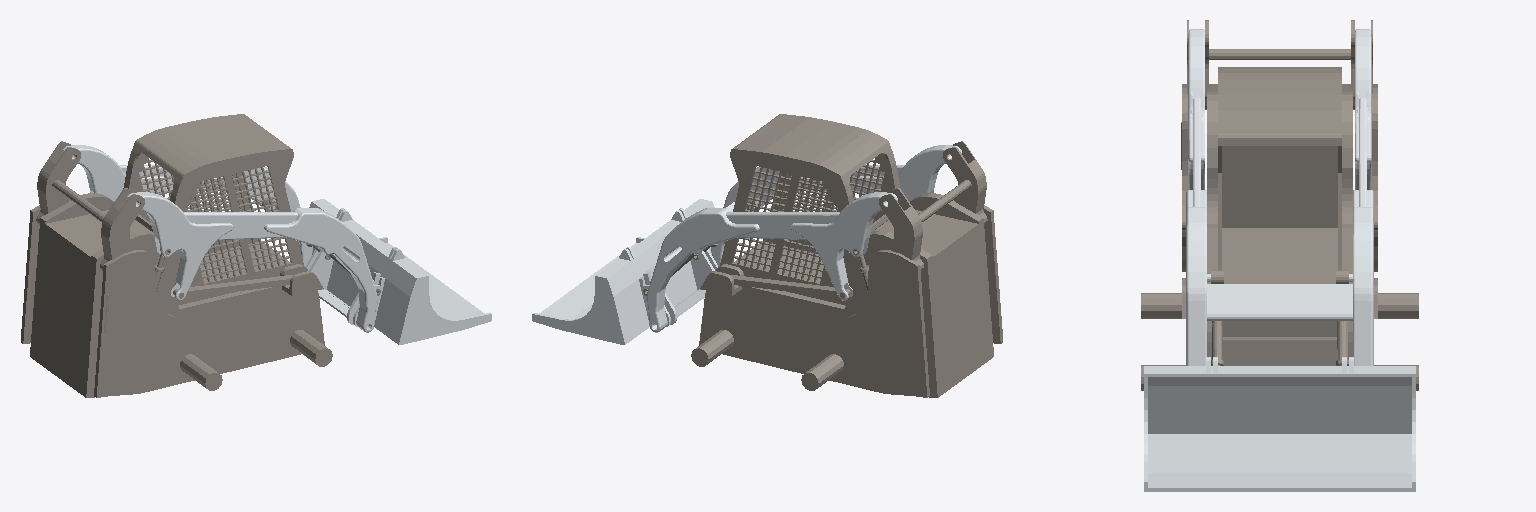
The robot description file, URDF, robot "bobcat":
<?xml version="1.0"?>
<robot
  name="bobcat">
  <link
    name="body">
    <inertial>
      <origin
        xyz="-0.890714078986241 0.000176354230843794 0.525609535873677"
        rpy="0 0 0" />
      <mass
        value="5018.57981030941" />
      <inertia
        ixx="1272.55944993386"
        ixy="0.30897993676798"
        ixz="-158.353301657466"
        iyy="2264.90693597666"
        iyz="-0.107097171125939"
        izz="2025.98192908188" />
    </inertial>
    <visual>
      <origin
        xyz="0 0 0"
        rpy="0 0 0" />
      <geometry>
        <mesh
          filename="package://bobcat/meshes/body_lite.STL" />
      </geometry>
      <material
        name="">
        <color
          rgba="0.647058823529412 0.619607843137255 0.588235294117647 0.5" />
      </material>
    </visual>
    <collision>
      <origin
        xyz="0 0 0"
        rpy="0 0 0" />
      <geometry>
        <mesh
          filename="package://bobcat/meshes/body_lite.STL" />
      </geometry>
    </collision>
  </link>
  <link
    name="front_left_wheel">
    <inertial>
      <origin
        xyz="2.0502E-07 0.19645 -3.6566E-09"
        rpy="0 0 0" />
      <mass
        value="1113.6" />
      <inertia
        ixx="57.645"
        ixy="-0.0001268"
        ixz="0.00024451"
        iyy="96.158"
        iyz="-4.2461E-05"
        izz="57.645" />
    </inertial>
    <visual>
      <origin
        xyz="0 0 0"
        rpy="0 0 0" />
      <geometry>
        <mesh
          filename="package://bobcat/meshes/front_left_wheel.STL" />
      </geometry>
      <material
        name="">
        <color
          rgba="0.64706 0.61961 0.58824 1" />
      </material>
    </visual>
    <collision>
      <origin
        xyz="0 0 0"
        rpy="0 0 0" />
      <geometry>
        <mesh
          filename="package://bobcat/meshes/front_left_wheel_lite.STL" />
      </geometry>
    </collision>
  </link>
  <joint
    name="front_left_wheel_joint"
    type="continuous">
    <origin
      xyz="-0.22722 0.47558 0.125"
      rpy="0 2.1164E-16 0" />
    <parent
      link="body" />
    <child
      link="front_left_wheel" />
    <axis
      xyz="0 1 0" />
  </joint>
  <link
    name="front_right_wheel">
    <inertial>
      <origin
        xyz="-2.0519E-07 -0.19645 -4.3198E-09"
        rpy="0 0 0" />
      <mass
        value="1113.6" />
      <inertia
        ixx="57.645"
        ixy="-0.00012695"
        ixz="-0.00024494"
        iyy="96.158"
        iyz="4.2098E-05"
        izz="57.645" />
    </inertial>
    <visual>
      <origin
        xyz="0 0 0"
        rpy="0 0 0" />
      <geometry>
        <mesh
          filename="package://bobcat/meshes/front_right_wheel.STL" />
      </geometry>
      <material
        name="">
        <color
          rgba="0.64706 0.61961 0.58824 1" />
      </material>
    </visual>
    <collision>
      <origin
        xyz="0 0 0"
        rpy="0 0 0" />
      <geometry>
        <mesh
          filename="package://bobcat/meshes/front_right_wheel_lite.STL" />
      </geometry>
    </collision>
  </link>
  <joint
    name="front_right_wheel_joint"
    type="continuous">
    <origin
      xyz="-0.22722 -0.47558 0.125"
      rpy="0 2.1164E-16 0" />
    <parent
      link="body" />
    <child
      link="front_right_wheel" />
    <axis
      xyz="0 1 0" />
  </joint>
  <link
    name="back_left_wheel">
    <inertial>
      <origin
        xyz="7.7344E-08 0.19645 1.8868E-07"
        rpy="0 0 0" />
      <mass
        value="1113.6" />
      <inertia
        ixx="57.645"
        ixy="-9.3672E-06"
        ixz="-0.00022863"
        iyy="96.158"
        iyz="-0.00013365"
        izz="57.645" />
    </inertial>
    <visual>
      <origin
        xyz="0 0 0"
        rpy="0 0 0" />
      <geometry>
        <mesh
          filename="package://bobcat/meshes/back_left_wheel.STL" />
      </geometry>
      <material
        name="">
        <color
          rgba="0.64706 0.61961 0.58824 1" />
      </material>
    </visual>
    <collision>
      <origin
        xyz="0 0 0"
        rpy="0 0 0" />
      <geometry>
        <mesh
          filename="package://bobcat/meshes/back_left_wheel_lite.STL" />
      </geometry>
    </collision>
  </link>
  <joint
    name="back_left_wheel_joint"
    type="continuous">
    <origin
      xyz="-1.227 0.47558 0.14772"
      rpy="0 2.1164E-16 0" />
    <parent
      link="body" />
    <child
      link="back_left_wheel" />
    <axis
      xyz="0 1 0" />
  </joint>
  <link
    name="back_right_wheel">
    <inertial>
      <origin
        xyz="-1.4894E-07 -0.19645 1.3751E-07"
        rpy="0 0 0" />
      <mass
        value="1113.6" />
      <inertia
        ixx="57.645"
        ixy="-6.7699E-05"
        ixz="4.3277E-05"
        iyy="96.158"
        iyz="0.00011578"
        izz="57.645" />
    </inertial>
    <visual>
      <origin
        xyz="0 0 0"
        rpy="0 0 0" />
      <geometry>
        <mesh
          filename="package://bobcat/meshes/back_right_wheel.STL" />
      </geometry>
      <material
        name="">
        <color
          rgba="0.64706 0.61961 0.58824 1" />
      </material>
    </visual>
    <collision>
      <origin
        xyz="0 0 0"
        rpy="0 0 0" />
      <geometry>
        <mesh
          filename="package://bobcat/meshes/back_right_wheel_lite.STL" />
      </geometry>
    </collision>
  </link>
  <joint
    name="back_right_wheel_joint"
    type="continuous">
    <origin
      xyz="-1.227 -0.47558 0.14772"
      rpy="0 2.1164E-16 0" />
    <parent
      link="body" />
    <child
      link="back_right_wheel" />
    <axis
      xyz="0 1 0" />
  </joint>
  <link
    name="base_arm">
    <inertial>
      <origin
        xyz="0.066509 1.9771E-12 0.25686"
        rpy="0 0 0" />
      <mass
        value="194.91" />
      <inertia
        ixx="50.76"
        ixy="-2.9264E-11"
        ixz="0.66798"
        iyy="4.8017"
        iyz="7.0403E-12"
        izz="47.388" />
    </inertial>
    <visual>
      <origin
        xyz="0 0 0"
        rpy="0 0 0" />
      <geometry>
        <mesh
          filename="package://bobcat/meshes/base_arm.STL" />
      </geometry>
      <material
        name="">
        <color
          rgba="0.64706 0.61961 0.58824 1" />
      </material>
    </visual>
    <collision>
      <origin
        xyz="0 0 0"
        rpy="0 0 0" />
      <geometry>
        <mesh
          filename="package://bobcat/meshes/base_arm.STL" />
      </geometry>
    </collision>
  </link>
  <joint
    name="base_arm_joint"
    type="fixed">
    <origin
      xyz="-1.9776 0 1.1773"
      rpy="0 2.1164E-16 0" />
    <parent
      link="body" />
    <child
      link="base_arm" />
  </joint>
  <link
    name="main_arm">
    <inertial>
      <origin
        xyz="1.1865 -4.0206E-07 -0.60466"
        rpy="0 0 0" />
      <mass
        value="369.05" />
      <inertia
        ixx="133.74"
        ixy="0.00012791"
        ixz="-68.753"
        iyy="216.24"
        iyz="-4.6593E-05"
        izz="268.55" />
    </inertial>
    <visual>
      <origin
        xyz="0 0 0"
        rpy="0 0 0" />
      <geometry>
        <mesh
          filename="package://bobcat/meshes/main_arm.STL" />
      </geometry>
      <material
        name="">
        <color
          rgba="0.89412 0.91373 0.92941 1" />
      </material>
    </visual>
    <collision>
      <origin
        xyz="0 0 0"
        rpy="0 0 0" />
      <geometry>
        <mesh
          filename="package://bobcat/meshes/main_arm.STL" />
      </geometry>
    </collision>
  </link>
  <joint
    name="main_arm_joint"
    type="fixed">
    <origin
      xyz="0.22304 0 0.5262"
      rpy="0 -2.1164E-16 0" />
    <parent
      link="base_arm" />
    <child
      link="main_arm" />
  </joint>
  <link
    name="supporter">
    <inertial>
      <origin
        xyz="0.51341 -4.9085E-16 -0.060486"
        rpy="0 0 0" />
      <mass
        value="65.29" />
      <inertia
        ixx="16.898"
        ixy="-2.3004E-13"
        ixz="-0.76501"
        iyy="6.6127"
        iyz="-2.4072E-13"
        izz="23.301" />
    </inertial>
    <visual>
      <origin
        xyz="0 0 0"
        rpy="0 0 0" />
      <geometry>
        <mesh
          filename="package://bobcat/meshes/supporter.STL" />
      </geometry>
      <material
        name="">
        <color
          rgba="0.64706 0.61961 0.58824 1" />
      </material>
    </visual>
    <collision>
      <origin
        xyz="0 0 0"
        rpy="0 0 0" />
      <geometry>
        <mesh
          filename="package://bobcat/meshes/supporter.STL" />
      </geometry>
    </collision>
  </link>
  <joint
    name="supporter_joint"
    type="fixed">
    <origin
      xyz="0.39771 0 -0.89486"
      rpy="0 8.0491E-16 0" />
    <parent
      link="main_arm" />
    <child
      link="supporter" />
  </joint>
  <link
    name="front_cylinder">
    <inertial>
      <origin
        xyz="0.16022 1.6587E-08 -0.17142"
        rpy="0 0 0" />
      <mass
        value="24.149" />
      <inertia
        ixx="4.0554"
        ixy="-4.9938E-08"
        ixz="-0.46391"
        iyy="0.95412"
        iyz="6.094E-08"
        izz="3.9926" />
    </inertial>
    <visual>
      <origin
        xyz="0 0 0"
        rpy="0 0 0" />
      <geometry>
        <mesh
          filename="package://bobcat/meshes/front_cylinder.STL" />
      </geometry>
      <material
        name="">
        <color
          rgba="0.64706 0.61961 0.58824 1" />
      </material>
    </visual>
    <collision>
      <origin
        xyz="0 0 0"
        rpy="0 0 0" />
      <geometry>
        <mesh
          filename="package://bobcat/meshes/front_cylinder.STL" />
      </geometry>
    </collision>
  </link>
  <joint
    name="front_cylinder_joint"
    type="fixed">
    <origin
      xyz="1.741 0 -0.80293"
      rpy="0 8.0491E-16 0" />
    <parent
      link="main_arm" />
    <child
      link="front_cylinder" />
  </joint>
  <link
    name="front_shaft">
    <inertial>
      <origin
        xyz="9.4954E-07 8.3283E-07 -0.19417"
        rpy="0 0 0" />
      <mass
        value="13.711" />
      <inertia
        ixx="2.4234"
        ixy="-2.5882E-07"
        ixz="1.3728E-06"
        iyy="0.41181"
        iyz="1.3005E-06"
        izz="2.0158" />
    </inertial>
    <visual>
      <origin
        xyz="0 0 0"
        rpy="0 0 0" />
      <geometry>
        <mesh
          filename="package://bobcat/meshes/front_shaft.STL" />
      </geometry>
      <material
        name="">
        <color
          rgba="0.64706 0.61961 0.58824 1" />
      </material>
    </visual>
    <collision>
      <origin
        xyz="0 0 0"
        rpy="0 0 0" />
      <geometry>
        <mesh
          filename="package://bobcat/meshes/front_shaft.STL" />
      </geometry>
    </collision>
  </link>
  <joint
    name="front_shaft_joint"
    type="fixed">
    <origin
      xyz="0.50479 0 -0.54009"
      rpy="-3.1416 0.75163 -3.1416" />
    <parent
      link="front_cylinder" />
    <child
      link="front_shaft" />
  </joint>
  <link
    name="loader">
    <inertial>
      <origin
        xyz="0.37894 2.192E-15 0.067409"
        rpy="0 0 0" />
      <mass
        value="196.06" />
      <inertia
        ixx="58.693"
        ixy="1.2282E-14"
        ixz="-3.1063"
        iyy="18.499"
        iyz="-4.2535E-15"
        izz="64.178" />
    </inertial>
    <visual>
      <origin
        xyz="0 0 0"
        rpy="0 0 0" />
      <geometry>
        <mesh
          filename="package://bobcat/meshes/loader.STL" />
      </geometry>
      <material
        name="">
        <color
          rgba="0.89412 0.91373 0.92941 1" />
      </material>
    </visual>
    <collision>
      <origin
        xyz="0 0 0"
        rpy="0 0 0" />
      <geometry>
        <mesh
          filename="package://bobcat/meshes/loader.STL" />
      </geometry>
    </collision>
  </link>
  <joint
    name="loader_joint"
    type="fixed">
    <origin
      xyz="2.0984 0 -1.557"
      rpy="0 2.5362E-15 0" />
    <parent
      link="main_arm" />
    <child
      link="loader" />
  </joint>
  <link
    name="back_cylinder">
    <inertial>
      <origin
        xyz="0.14567 5.3127E-08 0.43479"
        rpy="0 0 0" />
      <mass
        value="30.817" />
      <inertia
        ixx="10.053"
        ixy="-2.1135E-07"
        ixz="0.70965"
        iyy="2.3798"
        iyz="-5.4817E-07"
        izz="8.1729" />
    </inertial>
    <visual>
      <origin
        xyz="0 0 0"
        rpy="0 0 0" />
      <geometry>
        <mesh
          filename="package://bobcat/meshes/back_cylinder.STL" />
      </geometry>
      <material
        name="">
        <color
          rgba="0.64706 0.61961 0.58824 1" />
      </material>
    </visual>
    <collision>
      <origin
        xyz="0 0 0"
        rpy="0 0 0" />
      <geometry>
        <mesh
          filename="package://bobcat/meshes/back_cylinder.STL" />
      </geometry>
    </collision>
  </link>
  <joint
    name="back_cylinder_joint"
    type="fixed">
    <origin
      xyz="-1.8135 0 0.2184"
      rpy="0 8.0491E-16 0" />
    <parent
      link="body" />
    <child
      link="back_cylinder" />
  </joint>
  <link
    name="back_shaft">
    <inertial>
      <origin
        xyz="-1.2324E-08 -4.788E-09 -0.41004"
        rpy="0 0 0" />
      <mass
        value="20.367" />
      <inertia
        ixx="6.9354"
        ixy="-8.5203E-07"
        ixz="7.9714E-09"
        iyy="1.7047"
        iyz="-3.6983E-09"
        izz="5.2356" />
    </inertial>
    <visual>
      <origin
        xyz="0 0 0"
        rpy="0 0 0" />
      <geometry>
        <mesh
          filename="package://bobcat/meshes/back_shaft.STL" />
      </geometry>
      <material
        name="">
        <color
          rgba="0.64706 0.61961 0.58824 1" />
      </material>
    </visual>
    <collision>
      <origin
        xyz="0 0 0"
        rpy="0 0 0" />
      <geometry>
        <mesh
          filename="package://bobcat/meshes/back_shaft.STL" />
      </geometry>
    </collision>
  </link>
  <joint
    name="back_shaft_joint"
    type="fixed">
    <origin
      xyz="0.33441 0 0.99813"
      rpy="-5.7722E-16 0.32328 -4.9954E-16" />
    <parent
      link="back_cylinder" />
    <child
      link="back_shaft" />
  </joint>

 <!-- Transmissions for ROS Control -->
  <transmission name="tran1">
    <type>transmission_interface/SimpleTransmission</type>
    <joint name="front_right_wheel_joint"/>
    <actuator name="motor1">
      <hardwareInterface>EffortJointInterface</hardwareInterface>
      <mechanicalReduction>1</mechanicalReduction>
    </actuator>
  </transmission>

  <transmission name="tran2">
    <type>transmission_interface/SimpleTransmission</type>
    <joint name="front_left_wheel_joint"/>
    <actuator name="motor2">
      <hardwareInterface>EffortJointInterface</hardwareInterface>
      <mechanicalReduction>1</mechanicalReduction>
    </actuator>
  </transmission>

  <transmission name="tran3">
    <type>transmission_interface/SimpleTransmission</type>
    <joint name="back_right_wheel_joint"/>
    <actuator name="motor3">
      <hardwareInterface>EffortJointInterface</hardwareInterface>
      <mechanicalReduction>1</mechanicalReduction>
    </actuator>
  </transmission>

  <transmission name="tran4">
    <type>transmission_interface/SimpleTransmission</type>
    <joint name="back_left_wheel_joint"/>
    <actuator name="motor4">
      <hardwareInterface>EffortJointInterface</hardwareInterface>
      <mechanicalReduction>1</mechanicalReduction>
    </actuator>
  </transmission>

  <!-- ros_control plugin -->
  <gazebo>
    <plugin name="gazebo_ros_control" filename="libgazebo_ros_control.so">
      <robotNamespace>/bobcat</robotNamespace>
    </plugin>
  </gazebo>
  <gazebo reference="body">
    <mu1>1</mu1>
    <mu2>1</mu2>
    <selfCollide>true</selfCollide>
    <material>Gazebo/Wood</material>
  </gazebo>
  <gazebo reference="front_right_wheel">
    <mu1>1</mu1>
    <mu2>1</mu2>
    <selfCollide>true</selfCollide>
    <material>Gazebo/Grey</material>
  </gazebo>
  <gazebo reference="front_left_wheel">
    <mu1>1</mu1>
    <mu2>1</mu2>
    <selfCollide>true</selfCollide>
    <material>Gazebo/Grey</material>
  </gazebo>
  <gazebo reference="back_right_wheel">
    <mu1>1</mu1>
    <mu2>1</mu2>
    <selfCollide>true</selfCollide>
    <material>Gazebo/Grey</material>
  </gazebo>
  <gazebo reference="back_left_wheel">
    <mu1>1</mu1>
    <mu2>1</mu2>
    <material>Gazebo/Grey</material>
  </gazebo>
  <gazebo reference="base_arm">
    <mu1>1</mu1>
    <mu2>1</mu2>
    <selfCollide>true</selfCollide>
    <material>Gazebo/Grey</material>
  </gazebo>
  <gazebo reference="main_arm">
    <mu1>1</mu1>
    <mu2>1</mu2>
    <selfCollide>true</selfCollide>
    <material>Gazebo/PaintedWall</material>
  </gazebo>
  <gazebo reference="back_shaft">
    <mu1>1</mu1>
    <mu2>1</mu2>
    <selfCollide>true</selfCollide>
    <material>Gazebo/Black</material>
  </gazebo>
  <gazebo reference="supporter">
    <mu1>1</mu1>
    <mu2>1</mu2>
    <selfCollide>true</selfCollide>
    <material>Gazebo/GreyTransparent</material>
  </gazebo>
  <gazebo reference="front_cylinder">
    <mu1>1</mu1>
    <mu2>1</mu2>
    <selfCollide>true</selfCollide>
    <material>Gazebo/BlueTransparent</material>
  </gazebo>
  <gazebo reference="loader">
    <mu1>1</mu1>
    <mu2>1</mu2>
    <selfCollide>true</selfCollide>
    <material>Gazebo/Gold</material>
  </gazebo>
  <gazebo reference="front_shaft">
    <mu1>1</mu1>
    <mu2>1</mu2>
    <selfCollide>true</selfCollide>
    <material>Gazebo/Black</material>
  </gazebo>
  <gazebo reference="back_cylinder">
    <mu1>1</mu1>
    <mu2>1</mu2>
    <selfCollide>true</selfCollide>
    <material>Gazebo/BlueTransparent</material>
  </gazebo>
</robot>

--- Render facts (derived) ---
3 views of the same robot in one strip: view 1: azimuth 30°, elevation 25°; view 2: azimuth 150°, elevation 25°; view 3: azimuth 270°, elevation 25° (orthographic).
Robot: bobcat — 13 links, 12 joints (4 continuous, 8 fixed); root link body; default pose: all joints at 0.
Links seen in each view (by area): view 1: body, main_arm, loader, base_arm, supporter; view 2: body, main_arm, loader, base_arm, supporter; view 3: body, loader, main_arm, base_arm, front_cylinder.
Link boxes in pixels (left/top/right/bottom): body: left=21, top=114, right=332, bottom=397; main_arm: left=62, top=145, right=376, bottom=332; loader: left=306, top=199, right=491, bottom=344; base_arm: left=36, top=141, right=144, bottom=270; supporter: left=173, top=275, right=293, bottom=298; body: left=691, top=114, right=1002, bottom=397; main_arm: left=647, top=145, right=961, bottom=332; loader: left=532, top=199, right=717, bottom=344; base_arm: left=879, top=141, right=987, bottom=270; supporter: left=730, top=275, right=850, bottom=298; body: left=1141, top=67, right=1418, bottom=390; loader: left=1144, top=357, right=1415, bottom=491; main_arm: left=1186, top=29, right=1373, bottom=365; base_arm: left=1187, top=20, right=1372, bottom=109; front_cylinder: left=1211, top=270, right=1348, bottom=365.
Bounding box of the posed robot: 3.46 × 1.69 × 1.82 m (x, y, z).
Meshes: 13 distinct files referenced, 9 mesh visuals loaded (9 binary STL); not drawn: 4 (reference not matched to a file when rendering).